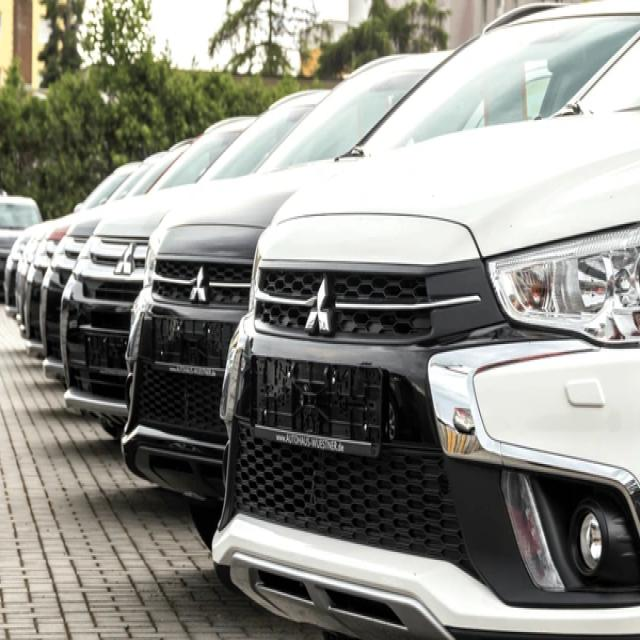mitsubishi: (305, 278, 333, 333), (187, 267, 212, 306), (114, 242, 136, 278)
